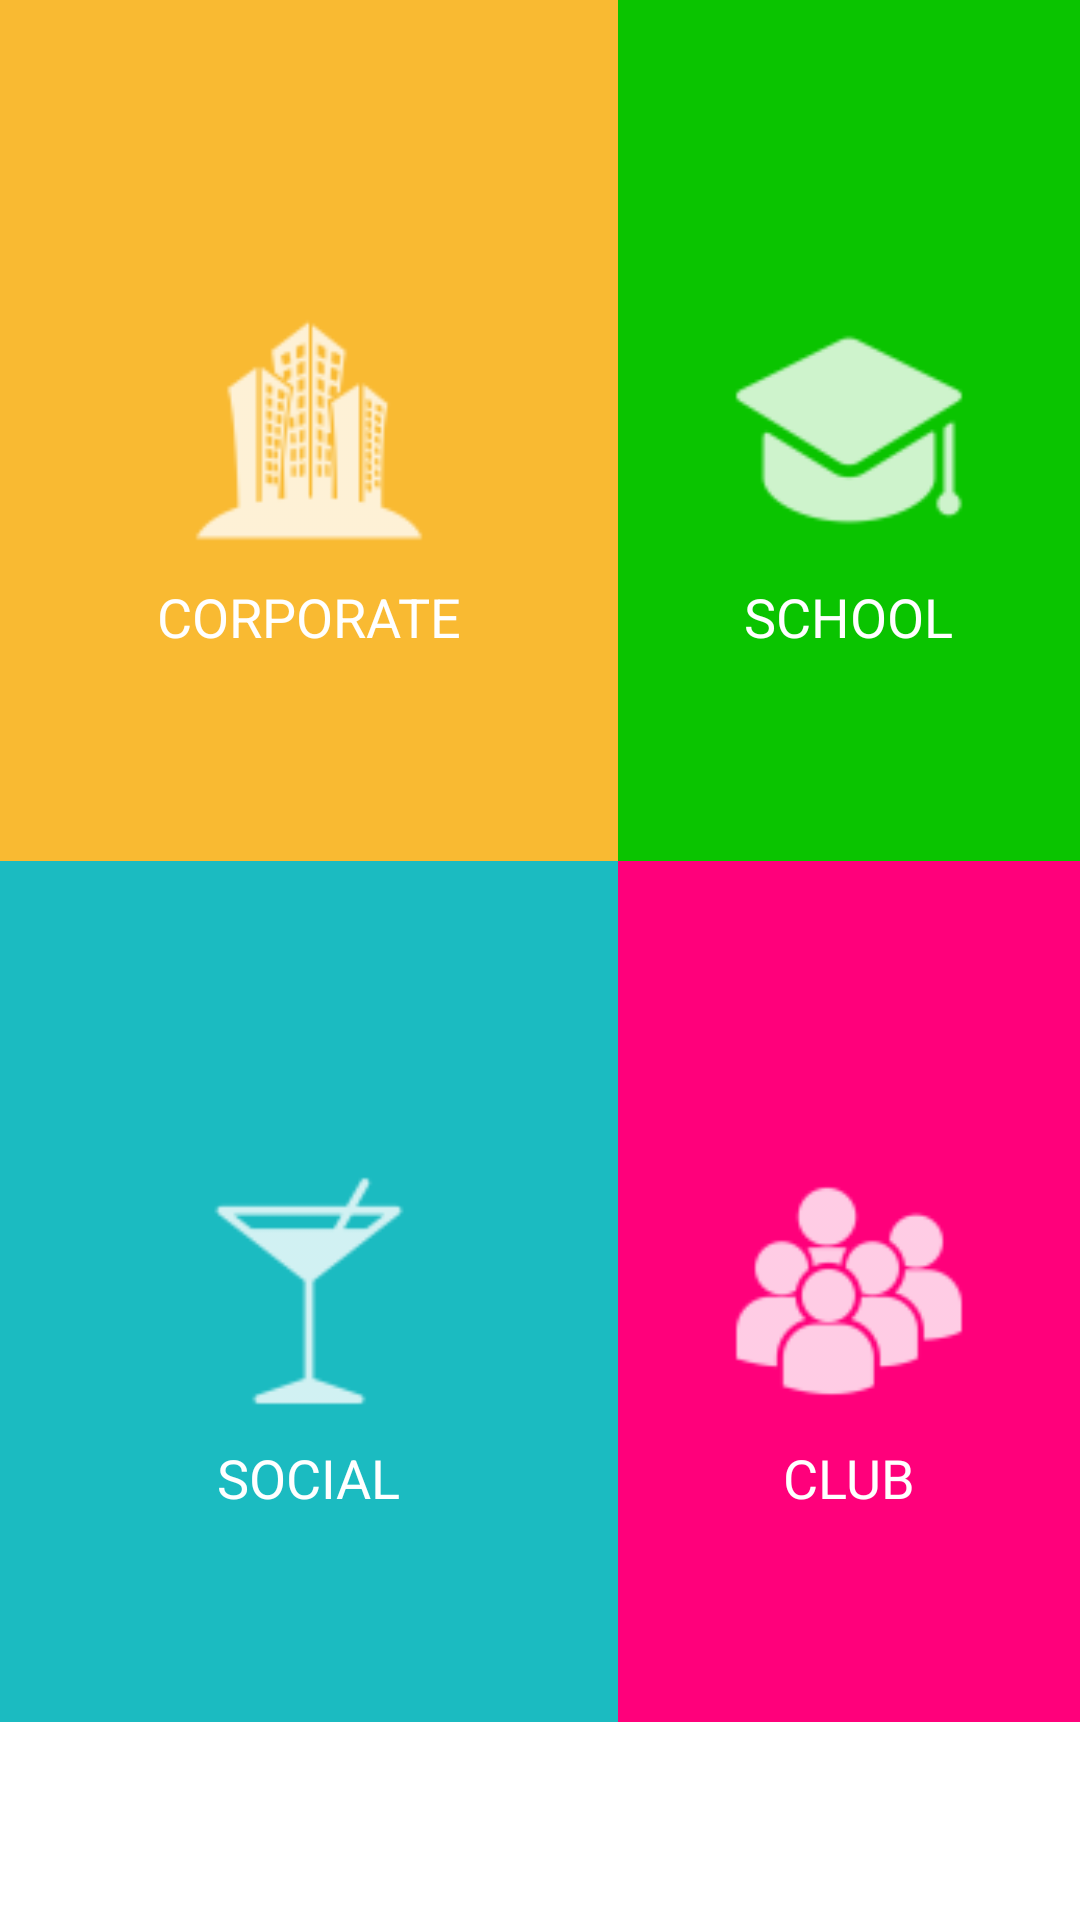

Icons on this 1080*1920 Android screen, each with the point to tap as [x,y]:
city: [309,431]
martini: [309,1291]
